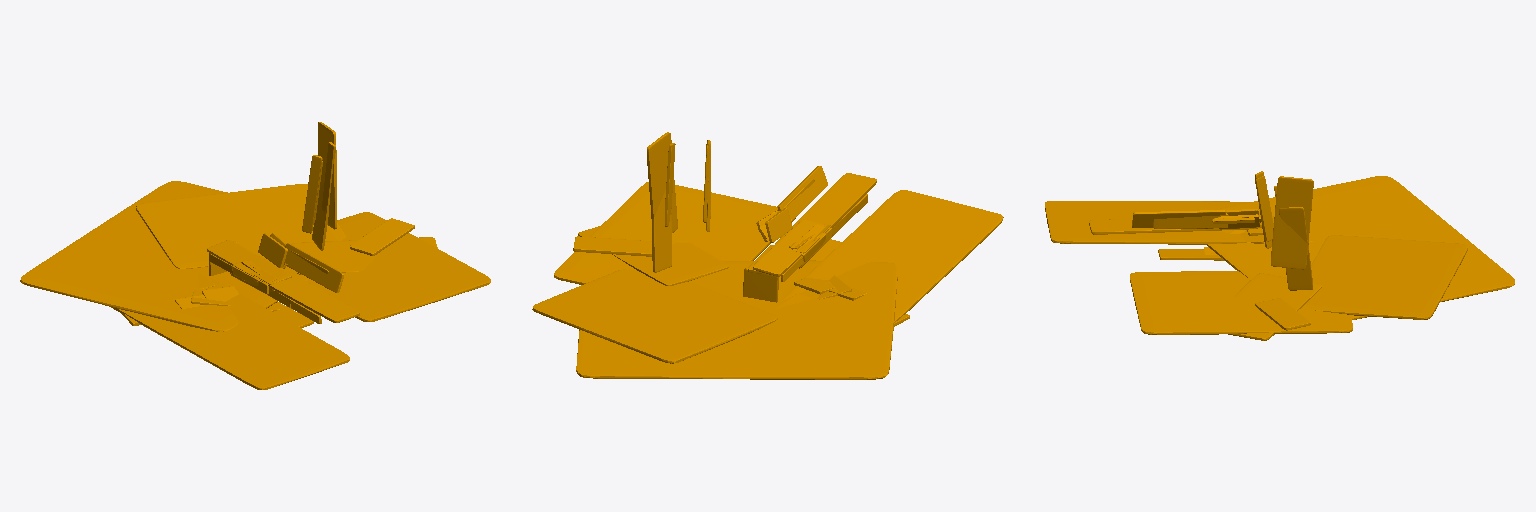
robot.urdf — scene:
<?xml version='1.0' encoding='utf-8'?>
<robot name="scene"><link name="scene_link"><visual><origin xyz="0.000000 0.000000 0.000000" rpy="0.000000 -0.000000 0.000000" /><geometry><mesh filename="part_000.obj" /></geometry></visual><collision><origin xyz="0.000000 0.000000 0.000000" rpy="0.000000 -0.000000 0.000000" /><geometry><mesh filename="part_000.obj" /></geometry></collision><visual><origin xyz="0.000000 0.000000 0.000000" rpy="0.000000 -0.000000 0.000000" /><geometry><mesh filename="part_001.obj" /></geometry></visual><collision><origin xyz="0.000000 0.000000 0.000000" rpy="0.000000 -0.000000 0.000000" /><geometry><mesh filename="part_001.obj" /></geometry></collision><visual><origin xyz="0.000000 0.000000 0.000000" rpy="0.000000 -0.000000 0.000000" /><geometry><mesh filename="part_002.obj" /></geometry></visual><collision><origin xyz="0.000000 0.000000 0.000000" rpy="0.000000 -0.000000 0.000000" /><geometry><mesh filename="part_002.obj" /></geometry></collision><visual><origin xyz="0.000000 0.000000 0.000000" rpy="0.000000 -0.000000 0.000000" /><geometry><mesh filename="part_003.obj" /></geometry></visual><collision><origin xyz="0.000000 0.000000 0.000000" rpy="0.000000 -0.000000 0.000000" /><geometry><mesh filename="part_003.obj" /></geometry></collision><visual><origin xyz="0.000000 0.000000 0.000000" rpy="0.000000 -0.000000 0.000000" /><geometry><mesh filename="part_004.obj" /></geometry></visual><collision><origin xyz="0.000000 0.000000 0.000000" rpy="0.000000 -0.000000 0.000000" /><geometry><mesh filename="part_004.obj" /></geometry></collision><visual><origin xyz="0.000000 0.000000 0.000000" rpy="0.000000 -0.000000 0.000000" /><geometry><mesh filename="part_005.obj" /></geometry></visual><collision><origin xyz="0.000000 0.000000 0.000000" rpy="0.000000 -0.000000 0.000000" /><geometry><mesh filename="part_005.obj" /></geometry></collision><visual><origin xyz="0.000000 0.000000 0.000000" rpy="0.000000 -0.000000 0.000000" /><geometry><mesh filename="part_006.obj" /></geometry></visual><collision><origin xyz="0.000000 0.000000 0.000000" rpy="0.000000 -0.000000 0.000000" /><geometry><mesh filename="part_006.obj" /></geometry></collision><visual><origin xyz="0.000000 0.000000 0.000000" rpy="0.000000 -0.000000 0.000000" /><geometry><mesh filename="part_007.obj" /></geometry></visual><collision><origin xyz="0.000000 0.000000 0.000000" rpy="0.000000 -0.000000 0.000000" /><geometry><mesh filename="part_007.obj" /></geometry></collision><visual><origin xyz="0.000000 0.000000 0.000000" rpy="0.000000 -0.000000 0.000000" /><geometry><mesh filename="part_008.obj" /></geometry></visual><collision><origin xyz="0.000000 0.000000 0.000000" rpy="0.000000 -0.000000 0.000000" /><geometry><mesh filename="part_008.obj" /></geometry></collision><visual><origin xyz="0.000000 0.000000 0.000000" rpy="0.000000 -0.000000 0.000000" /><geometry><mesh filename="part_009.obj" /></geometry></visual><collision><origin xyz="0.000000 0.000000 0.000000" rpy="0.000000 -0.000000 0.000000" /><geometry><mesh filename="part_009.obj" /></geometry></collision><visual><origin xyz="0.000000 0.000000 0.000000" rpy="0.000000 -0.000000 0.000000" /><geometry><mesh filename="part_010.obj" /></geometry></visual><collision><origin xyz="0.000000 0.000000 0.000000" rpy="0.000000 -0.000000 0.000000" /><geometry><mesh filename="part_010.obj" /></geometry></collision><visual><origin xyz="0.000000 0.000000 0.000000" rpy="0.000000 -0.000000 0.000000" /><geometry><mesh filename="part_011.obj" /></geometry></visual><collision><origin xyz="0.000000 0.000000 0.000000" rpy="0.000000 -0.000000 0.000000" /><geometry><mesh filename="part_011.obj" /></geometry></collision><visual><origin xyz="0.000000 0.000000 0.000000" rpy="0.000000 -0.000000 0.000000" /><geometry><mesh filename="part_012.obj" /></geometry></visual><collision><origin xyz="0.000000 0.000000 0.000000" rpy="0.000000 -0.000000 0.000000" /><geometry><mesh filename="part_012.obj" /></geometry></collision><visual><origin xyz="0.000000 0.000000 0.000000" rpy="0.000000 -0.000000 0.000000" /><geometry><mesh filename="part_013.obj" /></geometry></visual><collision><origin xyz="0.000000 0.000000 0.000000" rpy="0.000000 -0.000000 0.000000" /><geometry><mesh filename="part_013.obj" /></geometry></collision><visual><origin xyz="0.000000 0.000000 0.000000" rpy="0.000000 -0.000000 0.000000" /><geometry><mesh filename="part_014.obj" /></geometry></visual><collision><origin xyz="0.000000 0.000000 0.000000" rpy="0.000000 -0.000000 0.000000" /><geometry><mesh filename="part_014.obj" /></geometry></collision><visual><origin xyz="0.000000 0.000000 0.000000" rpy="0.000000 -0.000000 0.000000" /><geometry><mesh filename="part_015.obj" /></geometry></visual><collision><origin xyz="0.000000 0.000000 0.000000" rpy="0.000000 -0.000000 0.000000" /><geometry><mesh filename="part_015.obj" /></geometry></collision><visual><origin xyz="0.000000 0.000000 0.000000" rpy="0.000000 -0.000000 0.000000" /><geometry><mesh filename="part_016.obj" /></geometry></visual><collision><origin xyz="0.000000 0.000000 0.000000" rpy="0.000000 -0.000000 0.000000" /><geometry><mesh filename="part_016.obj" /></geometry></collision><visual><origin xyz="0.000000 0.000000 0.000000" rpy="0.000000 -0.000000 0.000000" /><geometry><mesh filename="part_017.obj" /></geometry></visual><collision><origin xyz="0.000000 0.000000 0.000000" rpy="0.000000 -0.000000 0.000000" /><geometry><mesh filename="part_017.obj" /></geometry></collision><visual><origin xyz="0.000000 0.000000 0.000000" rpy="0.000000 -0.000000 0.000000" /><geometry><mesh filename="part_018.obj" /></geometry></visual><collision><origin xyz="0.000000 0.000000 0.000000" rpy="0.000000 -0.000000 0.000000" /><geometry><mesh filename="part_018.obj" /></geometry></collision><visual><origin xyz="0.000000 0.000000 0.000000" rpy="0.000000 -0.000000 0.000000" /><geometry><mesh filename="part_019.obj" /></geometry></visual><collision><origin xyz="0.000000 0.000000 0.000000" rpy="0.000000 -0.000000 0.000000" /><geometry><mesh filename="part_019.obj" /></geometry></collision><visual><origin xyz="0.000000 0.000000 0.000000" rpy="0.000000 -0.000000 0.000000" /><geometry><mesh filename="part_020.obj" /></geometry></visual><collision><origin xyz="0.000000 0.000000 0.000000" rpy="0.000000 -0.000000 0.000000" /><geometry><mesh filename="part_020.obj" /></geometry></collision><visual><origin xyz="0.000000 0.000000 0.000000" rpy="0.000000 -0.000000 0.000000" /><geometry><mesh filename="part_021.obj" /></geometry></visual><collision><origin xyz="0.000000 0.000000 0.000000" rpy="0.000000 -0.000000 0.000000" /><geometry><mesh filename="part_021.obj" /></geometry></collision><visual><origin xyz="0.000000 0.000000 0.000000" rpy="0.000000 -0.000000 0.000000" /><geometry><mesh filename="part_022.obj" /></geometry></visual><collision><origin xyz="0.000000 0.000000 0.000000" rpy="0.000000 -0.000000 0.000000" /><geometry><mesh filename="part_022.obj" /></geometry></collision><visual><origin xyz="0.000000 0.000000 0.000000" rpy="0.000000 -0.000000 0.000000" /><geometry><mesh filename="part_023.obj" /></geometry></visual><collision><origin xyz="0.000000 0.000000 0.000000" rpy="0.000000 -0.000000 0.000000" /><geometry><mesh filename="part_023.obj" /></geometry></collision><visual><origin xyz="0.000000 0.000000 0.000000" rpy="0.000000 -0.000000 0.000000" /><geometry><mesh filename="part_024.obj" /></geometry></visual><collision><origin xyz="0.000000 0.000000 0.000000" rpy="0.000000 -0.000000 0.000000" /><geometry><mesh filename="part_024.obj" /></geometry></collision><visual><origin xyz="0.000000 0.000000 0.000000" rpy="0.000000 -0.000000 0.000000" /><geometry><mesh filename="part_025.obj" /></geometry></visual><collision><origin xyz="0.000000 0.000000 0.000000" rpy="0.000000 -0.000000 0.000000" /><geometry><mesh filename="part_025.obj" /></geometry></collision><visual><origin xyz="0.000000 0.000000 0.000000" rpy="0.000000 -0.000000 0.000000" /><geometry><mesh filename="part_026.obj" /></geometry></visual><collision><origin xyz="0.000000 0.000000 0.000000" rpy="0.000000 -0.000000 0.000000" /><geometry><mesh filename="part_026.obj" /></geometry></collision><visual><origin xyz="0.000000 0.000000 0.000000" rpy="0.000000 -0.000000 0.000000" /><geometry><mesh filename="part_027.obj" /></geometry></visual><collision><origin xyz="0.000000 0.000000 0.000000" rpy="0.000000 -0.000000 0.000000" /><geometry><mesh filename="part_027.obj" /></geometry></collision><visual><origin xyz="0.000000 0.000000 0.000000" rpy="0.000000 -0.000000 0.000000" /><geometry><mesh filename="part_028.obj" /></geometry></visual><collision><origin xyz="0.000000 0.000000 0.000000" rpy="0.000000 -0.000000 0.000000" /><geometry><mesh filename="part_028.obj" /></geometry></collision><visual><origin xyz="0.000000 0.000000 0.000000" rpy="0.000000 -0.000000 0.000000" /><geometry><mesh filename="part_029.obj" /></geometry></visual><collision><origin xyz="0.000000 0.000000 0.000000" rpy="0.000000 -0.000000 0.000000" /><geometry><mesh filename="part_029.obj" /></geometry></collision><visual><origin xyz="0.000000 0.000000 0.000000" rpy="0.000000 -0.000000 0.000000" /><geometry><mesh filename="part_030.obj" /></geometry></visual><collision><origin xyz="0.000000 0.000000 0.000000" rpy="0.000000 -0.000000 0.000000" /><geometry><mesh filename="part_030.obj" /></geometry></collision><visual><origin xyz="0.000000 0.000000 0.000000" rpy="0.000000 -0.000000 0.000000" /><geometry><mesh filename="part_031.obj" /></geometry></visual><collision><origin xyz="0.000000 0.000000 0.000000" rpy="0.000000 -0.000000 0.000000" /><geometry><mesh filename="part_031.obj" /></geometry></collision><visual><origin xyz="0.000000 0.000000 0.000000" rpy="0.000000 -0.000000 0.000000" /><geometry><mesh filename="part_032.obj" /></geometry></visual><collision><origin xyz="0.000000 0.000000 0.000000" rpy="0.000000 -0.000000 0.000000" /><geometry><mesh filename="part_032.obj" /></geometry></collision><visual><origin xyz="0.000000 0.000000 0.000000" rpy="0.000000 -0.000000 0.000000" /><geometry><mesh filename="part_033.obj" /></geometry></visual><collision><origin xyz="0.000000 0.000000 0.000000" rpy="0.000000 -0.000000 0.000000" /><geometry><mesh filename="part_033.obj" /></geometry></collision><visual><origin xyz="0.000000 0.000000 0.000000" rpy="0.000000 -0.000000 0.000000" /><geometry><mesh filename="part_034.obj" /></geometry></visual><collision><origin xyz="0.000000 0.000000 0.000000" rpy="0.000000 -0.000000 0.000000" /><geometry><mesh filename="part_034.obj" /></geometry></collision><visual><origin xyz="0.000000 0.000000 0.000000" rpy="0.000000 -0.000000 0.000000" /><geometry><mesh filename="part_035.obj" /></geometry></visual><collision><origin xyz="0.000000 0.000000 0.000000" rpy="0.000000 -0.000000 0.000000" /><geometry><mesh filename="part_035.obj" /></geometry></collision><visual><origin xyz="0.000000 0.000000 0.000000" rpy="0.000000 -0.000000 0.000000" /><geometry><mesh filename="part_036.obj" /></geometry></visual><collision><origin xyz="0.000000 0.000000 0.000000" rpy="0.000000 -0.000000 0.000000" /><geometry><mesh filename="part_036.obj" /></geometry></collision><visual><origin xyz="0.000000 0.000000 0.000000" rpy="0.000000 -0.000000 0.000000" /><geometry><mesh filename="part_037.obj" /></geometry></visual><collision><origin xyz="0.000000 0.000000 0.000000" rpy="0.000000 -0.000000 0.000000" /><geometry><mesh filename="part_037.obj" /></geometry></collision><visual><origin xyz="0.000000 0.000000 0.000000" rpy="0.000000 -0.000000 0.000000" /><geometry><mesh filename="part_038.obj" /></geometry></visual><collision><origin xyz="0.000000 0.000000 0.000000" rpy="0.000000 -0.000000 0.000000" /><geometry><mesh filename="part_038.obj" /></geometry></collision><visual><origin xyz="0.000000 0.000000 0.000000" rpy="0.000000 -0.000000 0.000000" /><geometry><mesh filename="part_039.obj" /></geometry></visual><collision><origin xyz="0.000000 0.000000 0.000000" rpy="0.000000 -0.000000 0.000000" /><geometry><mesh filename="part_039.obj" /></geometry></collision><visual><origin xyz="0.000000 0.000000 0.000000" rpy="0.000000 -0.000000 0.000000" /><geometry><mesh filename="part_040.obj" /></geometry></visual><collision><origin xyz="0.000000 0.000000 0.000000" rpy="0.000000 -0.000000 0.000000" /><geometry><mesh filename="part_040.obj" /></geometry></collision><visual><origin xyz="0.000000 0.000000 0.000000" rpy="0.000000 -0.000000 0.000000" /><geometry><mesh filename="part_041.obj" /></geometry></visual><collision><origin xyz="0.000000 0.000000 0.000000" rpy="0.000000 -0.000000 0.000000" /><geometry><mesh filename="part_041.obj" /></geometry></collision><visual><origin xyz="0.000000 0.000000 0.000000" rpy="0.000000 -0.000000 0.000000" /><geometry><mesh filename="part_042.obj" /></geometry></visual><collision><origin xyz="0.000000 0.000000 0.000000" rpy="0.000000 -0.000000 0.000000" /><geometry><mesh filename="part_042.obj" /></geometry></collision><visual><origin xyz="0.000000 0.000000 0.000000" rpy="0.000000 -0.000000 0.000000" /><geometry><mesh filename="part_043.obj" /></geometry></visual><collision><origin xyz="0.000000 0.000000 0.000000" rpy="0.000000 -0.000000 0.000000" /><geometry><mesh filename="part_043.obj" /></geometry></collision><visual><origin xyz="0.000000 0.000000 0.000000" rpy="0.000000 -0.000000 0.000000" /><geometry><mesh filename="part_044.obj" /></geometry></visual><collision><origin xyz="0.000000 0.000000 0.000000" rpy="0.000000 -0.000000 0.000000" /><geometry><mesh filename="part_044.obj" /></geometry></collision><visual><origin xyz="0.000000 0.000000 0.000000" rpy="0.000000 -0.000000 0.000000" /><geometry><mesh filename="part_045.obj" /></geometry></visual><collision><origin xyz="0.000000 0.000000 0.000000" rpy="0.000000 -0.000000 0.000000" /><geometry><mesh filename="part_045.obj" /></geometry></collision><visual><origin xyz="0.000000 0.000000 0.000000" rpy="0.000000 -0.000000 0.000000" /><geometry><mesh filename="part_046.obj" /></geometry></visual><collision><origin xyz="0.000000 0.000000 0.000000" rpy="0.000000 -0.000000 0.000000" /><geometry><mesh filename="part_046.obj" /></geometry></collision></link></robot>

--- Render facts (derived) ---
3 views of the same robot in one strip: view 1: azimuth 30°, elevation 25°; view 2: azimuth 150°, elevation 25°; view 3: azimuth 270°, elevation 25° (orthographic).
Robot: scene — 1 links, 0 joints (none); root link scene_link; default pose: all joints at 0.
Links seen in each view (by area): view 1: scene_link; view 2: scene_link; view 3: scene_link.
Boxes of the visible links, <box> form: scene_link: <box>20,122,490,389</box>; scene_link: <box>532,132,1003,379</box>; scene_link: <box>1045,171,1514,340</box>.
Bounding box of the posed robot: 5.17 × 6.23 × 1.87 m (x, y, z).
Meshes: 47 distinct files referenced, 47 mesh visuals loaded (47 OBJ).